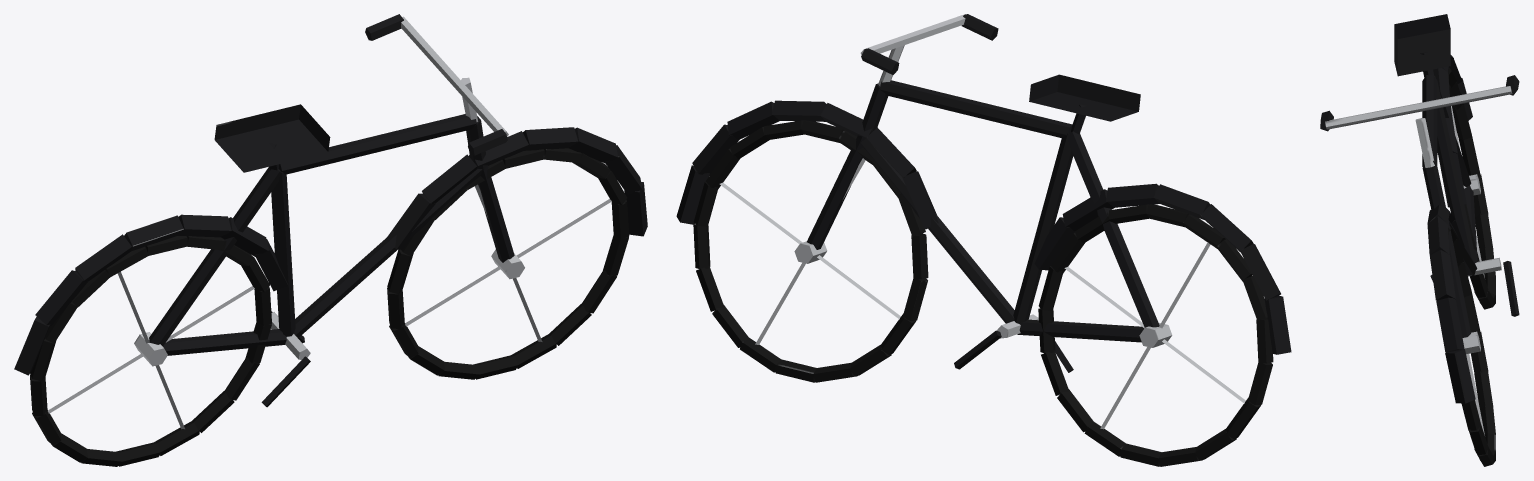
File: kolo_55df485a.glb
3 views of the same model, side by side, from view 1: azimuth 30°, elevation 25°; view 2: azimuth 150°, elevation 25°; view 3: azimuth 270°, elevation 25° (orthographic). The views are drawn at different scales.
Visible parts, largest first — view 1: dum; view 2: dum; view 3: dum.
Part boxes in pixels (box(x1,y1,x2,y2)): dum: box(14, 14, 647, 466); dum: box(676, 14, 1291, 466); dum: box(1320, 14, 1519, 466).
Bounding box in the file's own units: 1.95 × 1.09 × 0.5868.
Materials: 1 (1 with a texture image).
